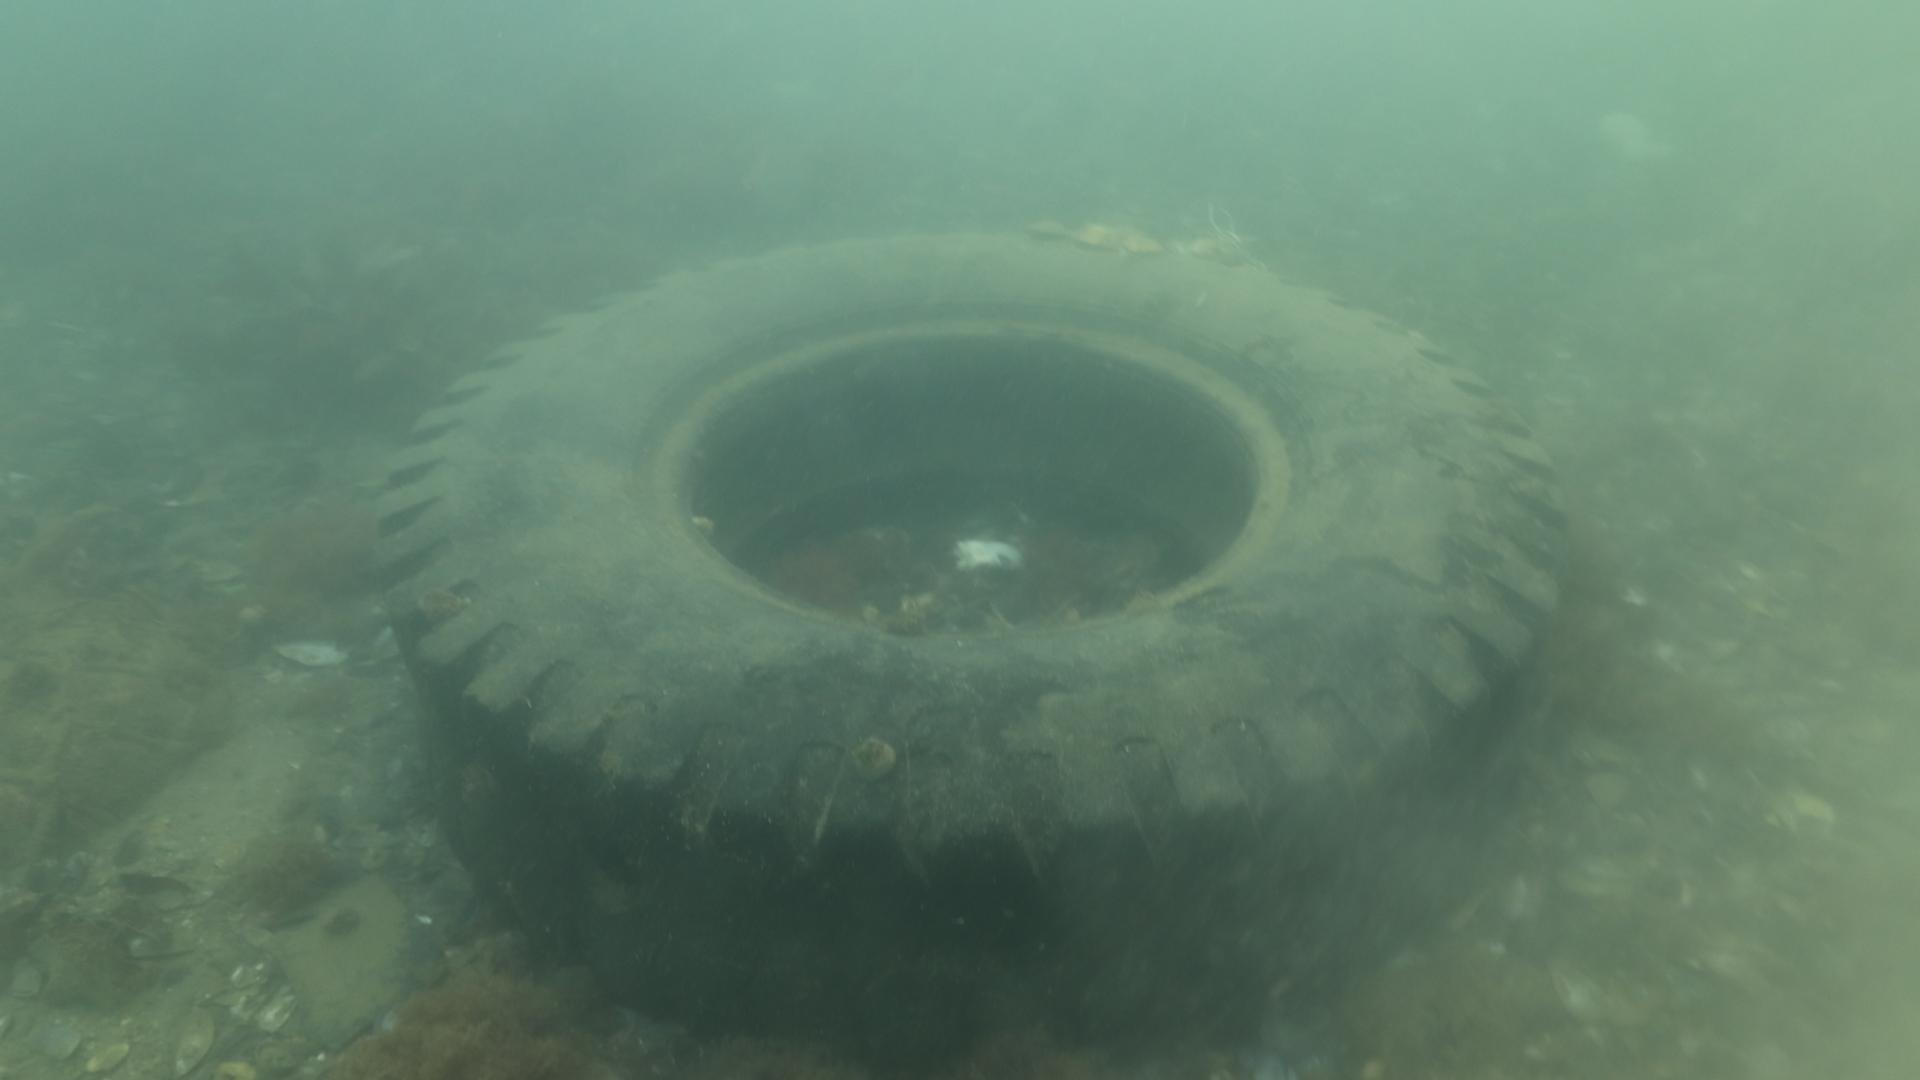tire: (371, 232, 1568, 1029)
